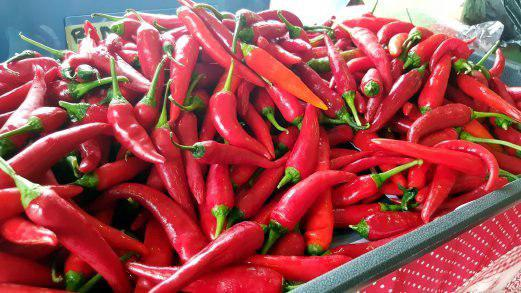lada merah: (19, 186, 127, 284), (158, 219, 269, 293), (3, 111, 107, 184), (117, 175, 204, 259), (238, 39, 333, 114), (265, 165, 350, 243), (180, 9, 261, 84), (204, 72, 268, 158), (1, 57, 58, 145), (367, 61, 433, 137), (280, 101, 333, 191), (376, 137, 483, 181), (105, 97, 168, 163), (409, 103, 482, 144), (193, 137, 270, 173), (64, 47, 134, 81)
